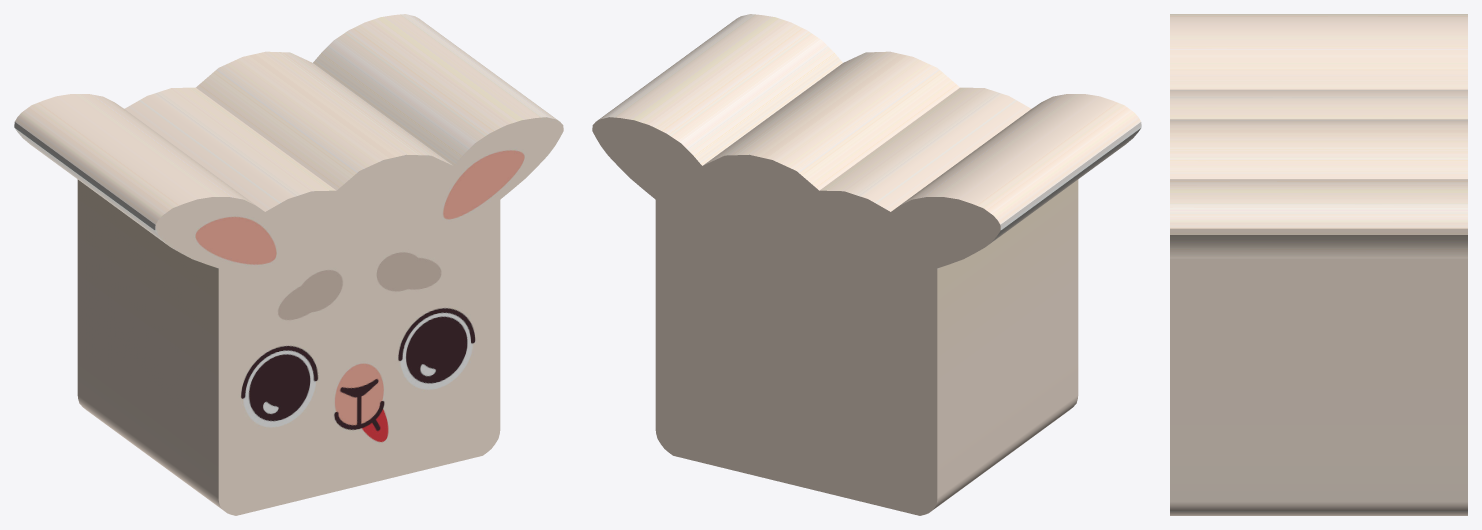
Rendered from Sheep.fbx.
3 renders of one model, left to right at view 1: azimuth 30°, elevation 25°; view 2: azimuth 150°, elevation 25°; view 3: azimuth 270°, elevation 25°, orthographic. The views are drawn at different scales.
Parts seen in each view (by area): view 1: Sheep; view 2: Sheep; view 3: Sheep.
Boxes of the visible parts, box(x1,y1,x2,y2) form: Sheep: box(14, 14, 563, 515); Sheep: box(592, 14, 1141, 515); Sheep: box(1170, 14, 1467, 515).
Bounding box in the file's own units: 7.77 × 5.92 × 4.64.
1 material, 1 textured.
